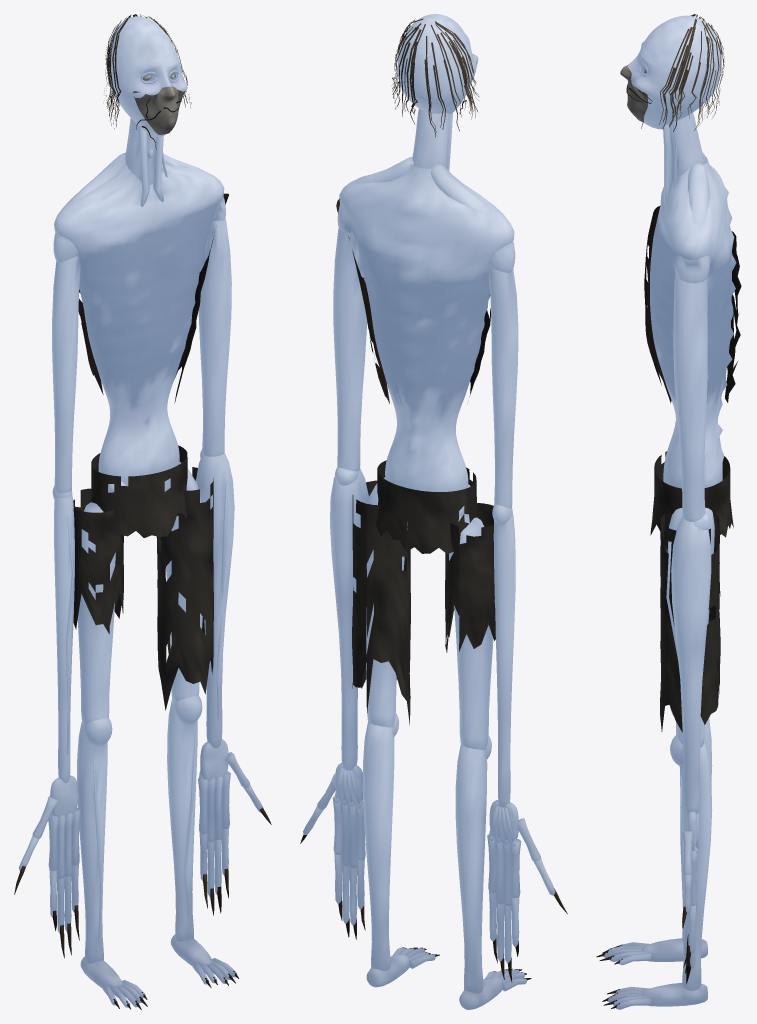
File: bledy_5.glb
3 renders of one model, left to right at view 1: azimuth 30°, elevation 25°; view 2: azimuth 150°, elevation 25°; view 3: azimuth 270°, elevation 25°, orthographic. The views are drawn at different scales.
Parts seen in each view (by area): view 1: koza.033, latka.003, koza.002, koza.001, koza.029, koza.028, koza.027, latka.002, koza.034, latka.001, koza.026, koza.031 (+7 smaller); view 2: koza.033, latka.003, koza.001, koza.002, koza.029, koza.028, koza.027, latka.001, latka.002, koza.026, koza.034, koza.031 (+6 smaller); view 3: koza.033, koza.027, koza.029, koza.034, koza.002, latka.003, latka.001, vlasy, koza.025, latka, koza.001, maska (+3 smaller).
Part boxes in pixels (box(x1,y1,x2,y2)): koza.033: box(54, 153, 224, 492); latka.003: box(156, 467, 213, 710); koza.002: box(167, 695, 236, 984); koza.001: box(77, 717, 145, 1007); koza.029: box(198, 196, 231, 456); koza.028: box(52, 232, 80, 493); koza.027: box(196, 449, 234, 748); latka.002: box(73, 488, 123, 633); koza.034: box(109, 16, 187, 136); latka.001: box(90, 445, 187, 537); koza.026: box(52, 485, 74, 783); koza.031: box(77, 502, 115, 727); koza.033: box(339, 157, 514, 523); latka.003: box(352, 480, 410, 725); koza.001: box(455, 735, 526, 1009); koza.002: box(362, 713, 435, 987); koza.029: box(333, 205, 367, 471); koza.028: box(489, 241, 518, 508); koza.027: box(330, 467, 368, 770); latka.001: box(375, 460, 478, 553); latka.002: box(445, 503, 495, 652); koza.026: box(492, 504, 515, 807); koza.034: box(397, 14, 478, 114); koza.031: box(449, 513, 493, 749); koza.033: box(650, 152, 736, 488); koza.027: box(666, 512, 711, 814); koza.029: box(673, 254, 710, 522); koza.034: box(627, 15, 720, 129); koza.002: box(607, 735, 712, 1009); latka.003: box(660, 513, 720, 732); latka.001: box(650, 451, 733, 549); vlasy: box(659, 14, 724, 131); koza.025: box(663, 113, 705, 204); latka: box(644, 206, 741, 403); koza.001: box(603, 708, 712, 965); maska: box(620, 65, 647, 122).
Size of the model in its own units: 0.8611 by 3.03 by 0.4156.
